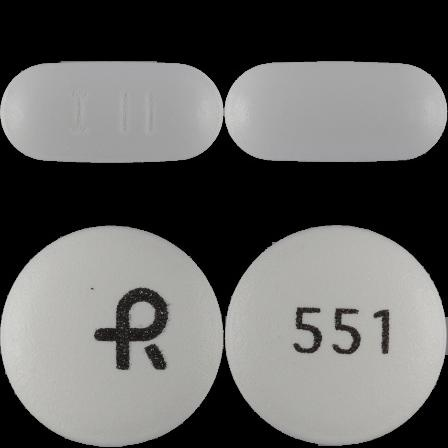10544-920: (0, 0, 224, 224)
